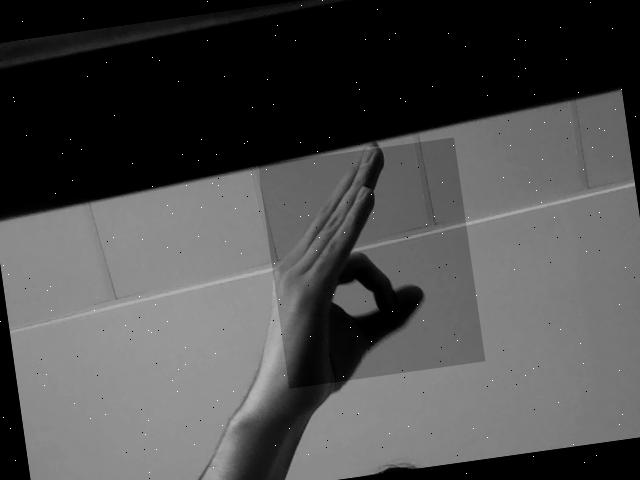OK: (258, 138, 486, 389)
